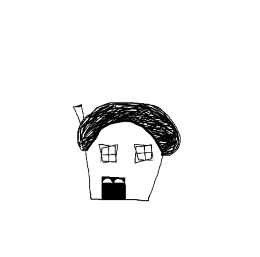chimney: (65, 92, 95, 130)
closed_window: (128, 142, 156, 166), (97, 142, 121, 166)
door: (98, 172, 130, 204)
shaded_roof: (65, 96, 185, 155)
small_house: (0, 1, 260, 257)
wall: (78, 138, 168, 206)
